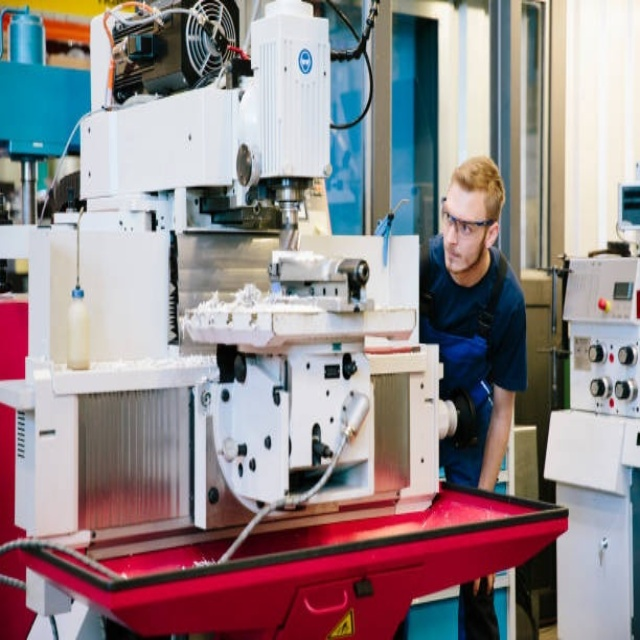Gafas: (441, 198, 496, 236)
Sin_mascara: (444, 240, 465, 271)
